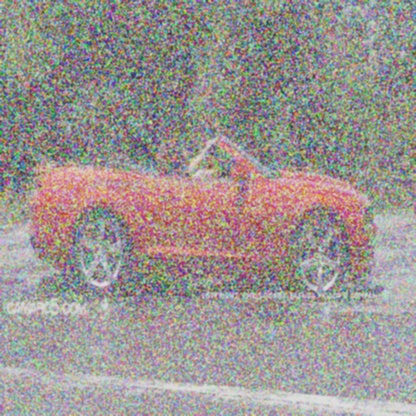Vehicle: (29, 130, 383, 308)
